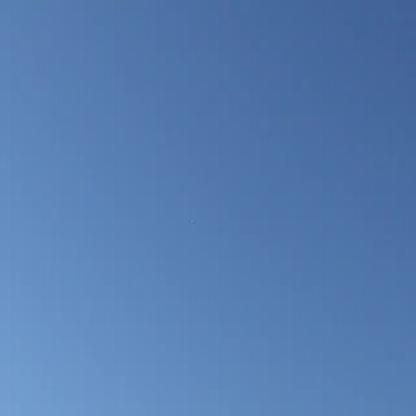plane: (185, 215, 199, 227)
